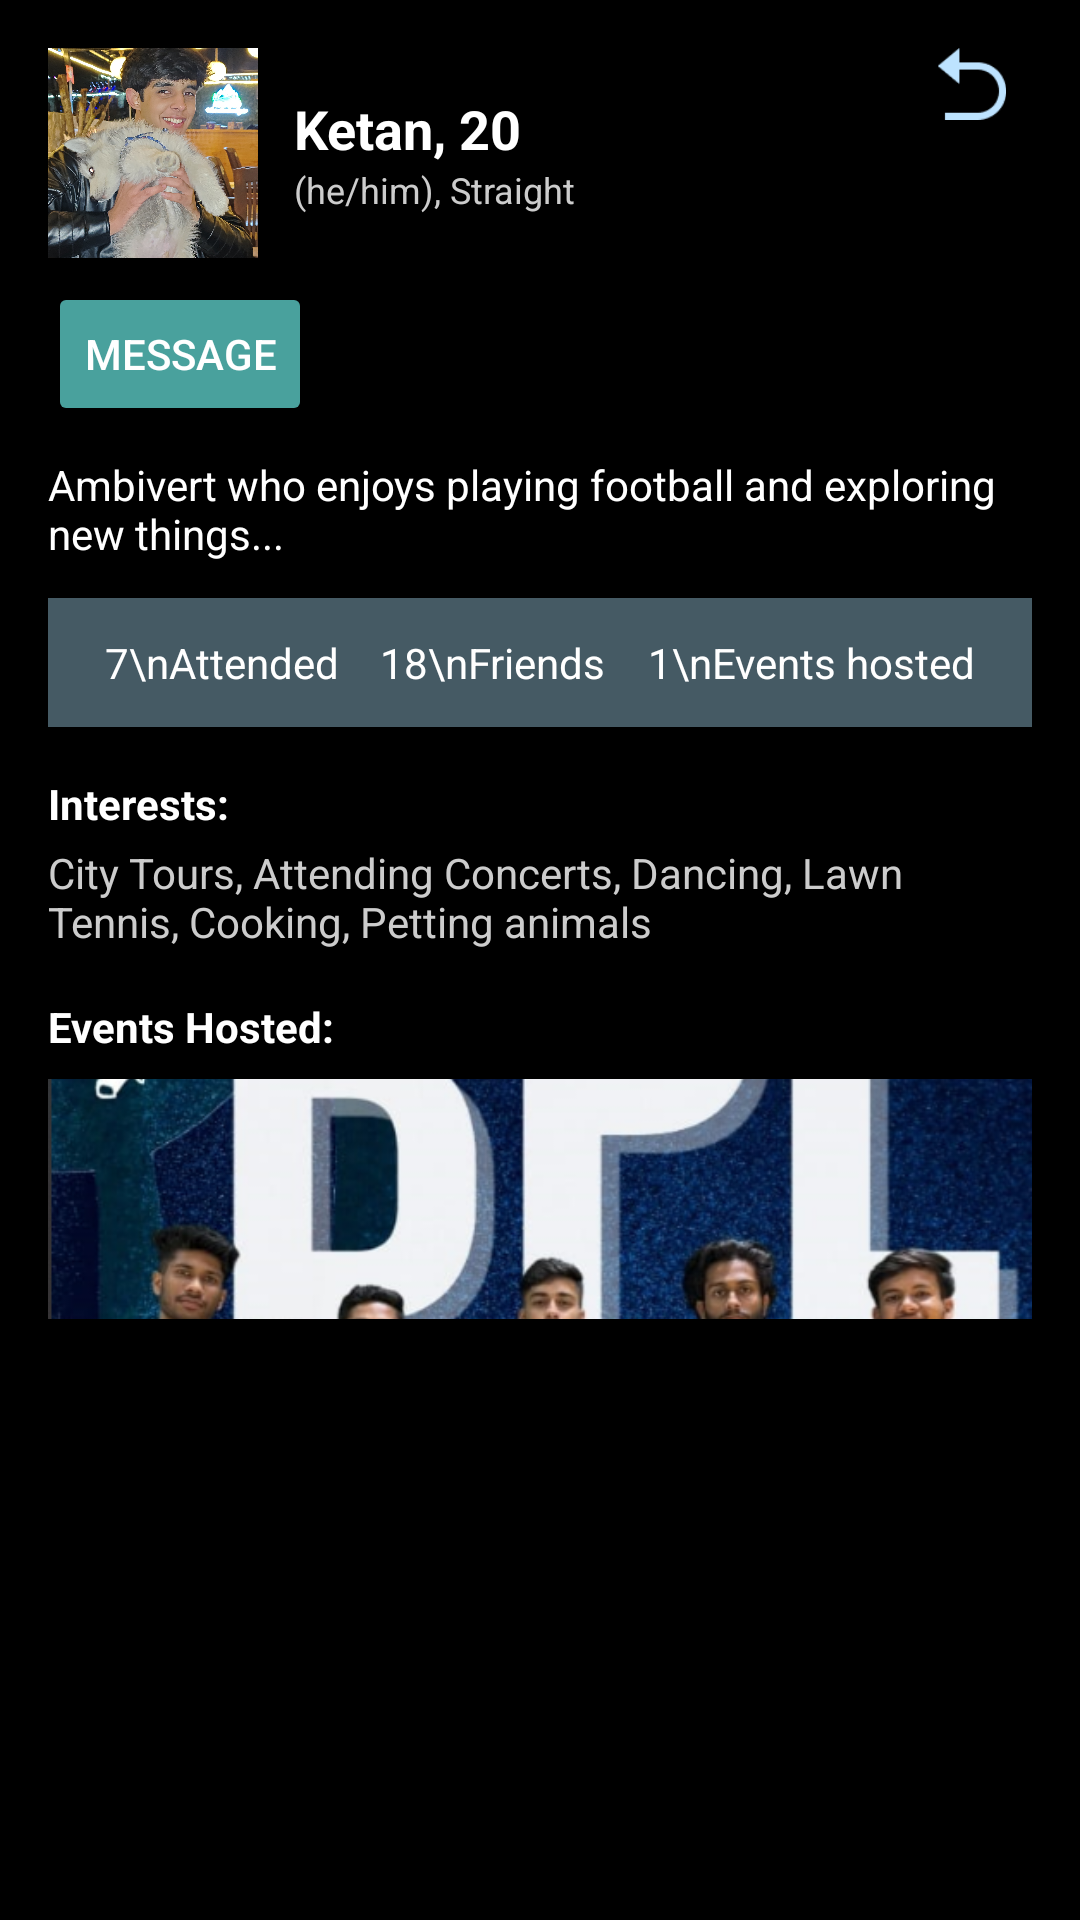

Screen size 1080*1920. Icon name, then its box in pixels as detection(x1, y1, x2, y2):
Back Button: detection(938, 48, 1006, 120)
userprofile: detection(48, 48, 258, 258)
